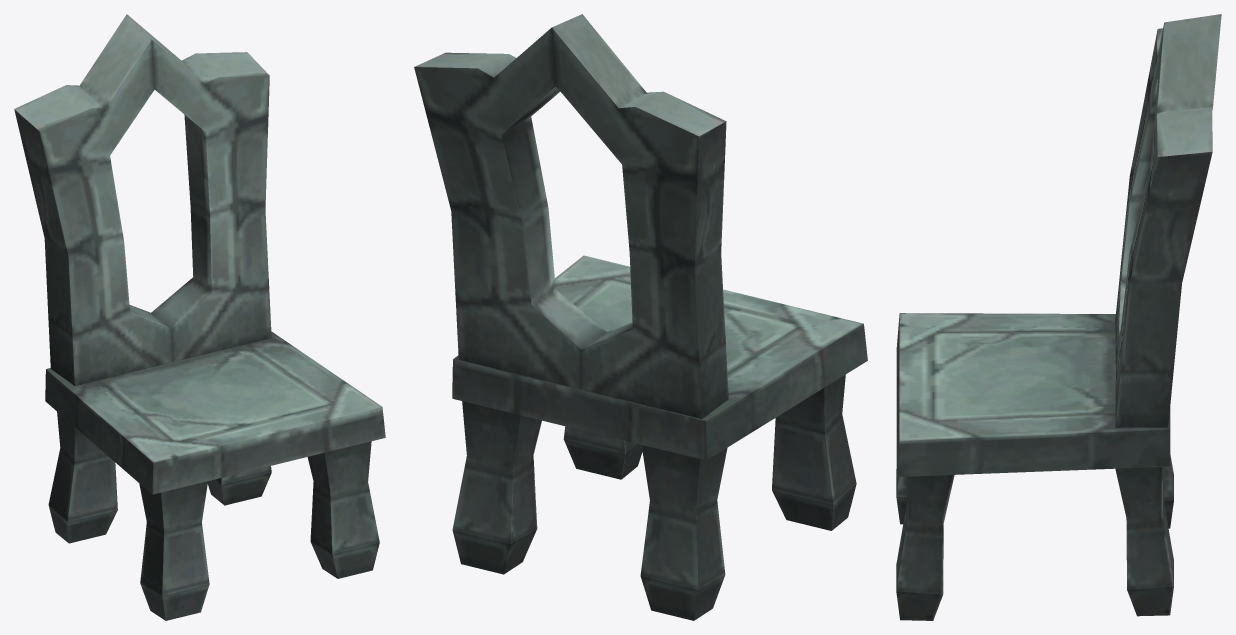
File: crypt_chair02.fbx
3 views of the same model, side by side, from view 1: azimuth 30°, elevation 25°; view 2: azimuth 150°, elevation 25°; view 3: azimuth 270°, elevation 25° (orthographic). The views are drawn at different scales.
Parts seen in each view (by area): view 1: miscellaneous; view 2: miscellaneous; view 3: miscellaneous.
Part boxes in pixels (x1,y1,x2,y2): miscellaneous: (14, 14, 385, 620); miscellaneous: (414, 14, 867, 620); miscellaneous: (896, 14, 1221, 620).
Bounding box in the file's own units: 0.9633 × 1.89 × 1.02.
